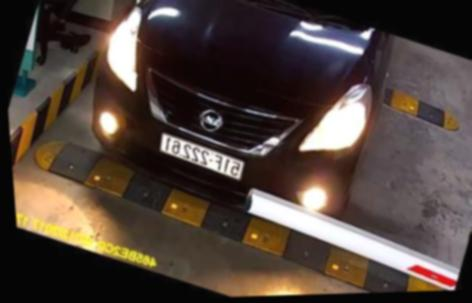License_Plate: (151, 128, 254, 184)
